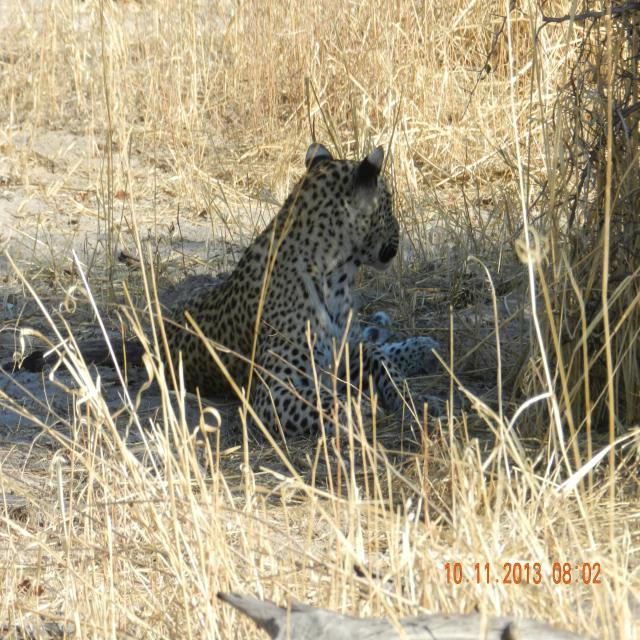Leopard: (132, 148, 430, 447)
